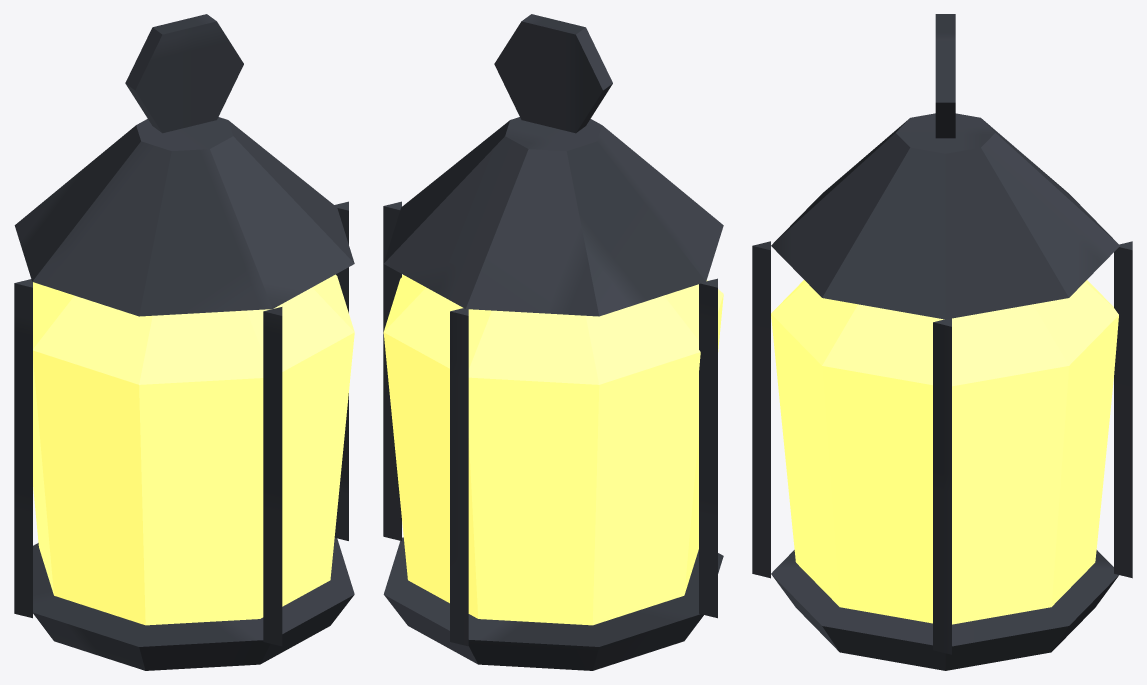
The model's file is SM_Prop_HangingLantern_HQ.glb.
3 renders of one model, left to right at view 1: azimuth 30°, elevation 25°; view 2: azimuth 150°, elevation 25°; view 3: azimuth 270°, elevation 25°, orthographic.
Visible parts, largest first — view 1: SM_Prop_HangingLantern_HQ; view 2: SM_Prop_HangingLantern_HQ; view 3: SM_Prop_HangingLantern_HQ.
Part boxes in pixels (x1,y1,x2,y2): SM_Prop_HangingLantern_HQ: [14, 14, 354, 670]; SM_Prop_HangingLantern_HQ: [383, 14, 723, 670]; SM_Prop_HangingLantern_HQ: [752, 14, 1132, 670].
Bounding box in the file's own units: 0.3073 × 0.5133 × 0.305.
Materials: 1 (1 with a texture image).
